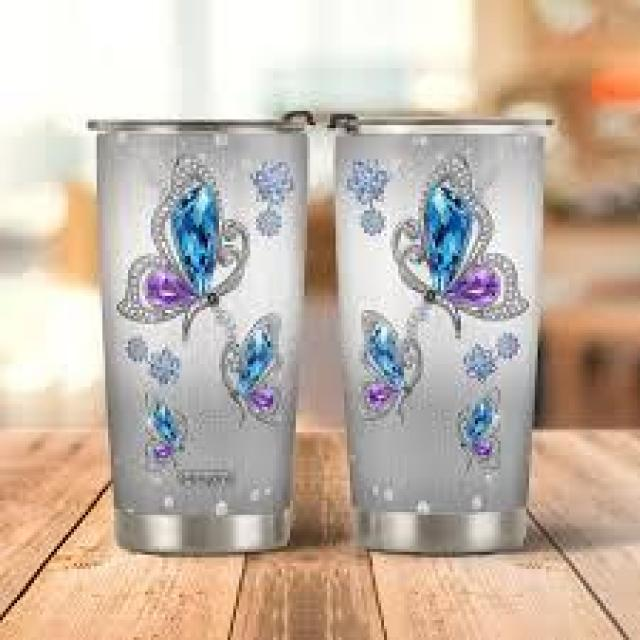bottle: (322, 105, 564, 560), (85, 105, 316, 563)
